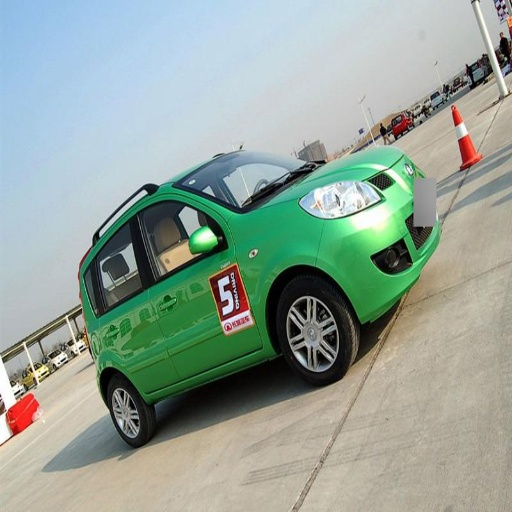back_right_door: (99, 202, 185, 357)
